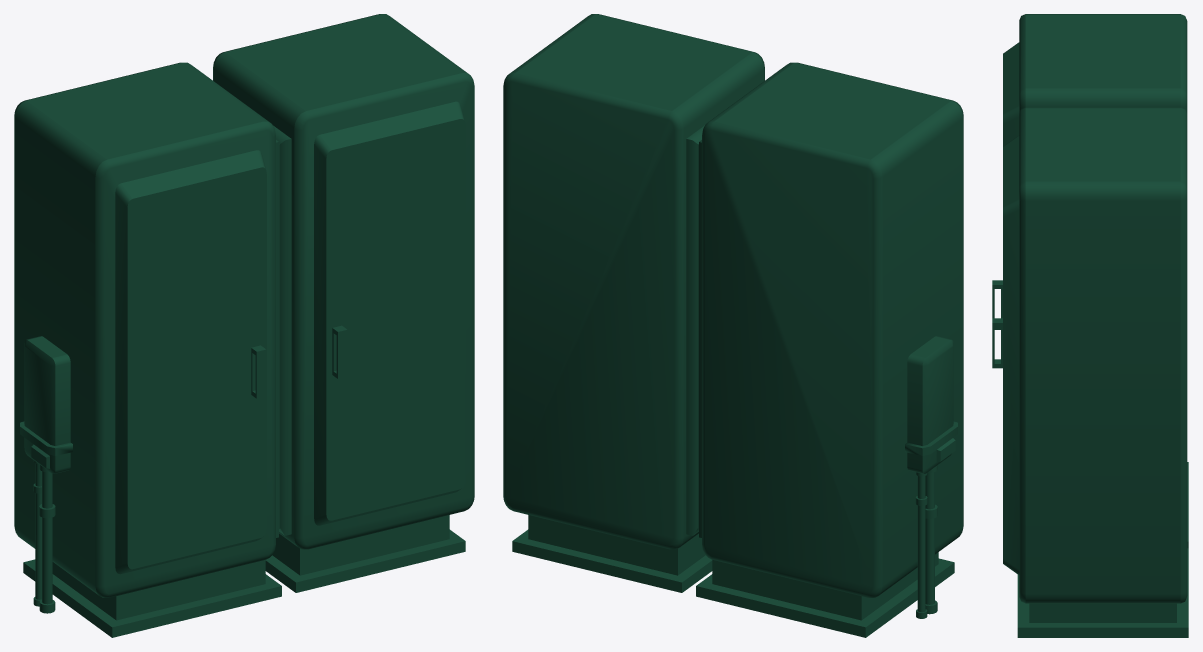
Rendered from PowerBox.fbx.
3 renders of one model, left to right at view 1: azimuth 30°, elevation 25°; view 2: azimuth 150°, elevation 25°; view 3: azimuth 270°, elevation 25°, orthographic. The views are drawn at different scales.
Visible parts, largest first — view 1: PowerBox; view 2: PowerBox; view 3: PowerBox.
Part boxes in pixels (left/top/right/bottom): PowerBox: left=14, top=14, right=474, bottom=637; PowerBox: left=503, top=14, right=963, bottom=637; PowerBox: left=992, top=14, right=1188, bottom=637.
Size of the model in its own units: 264 by 300 by 117.
